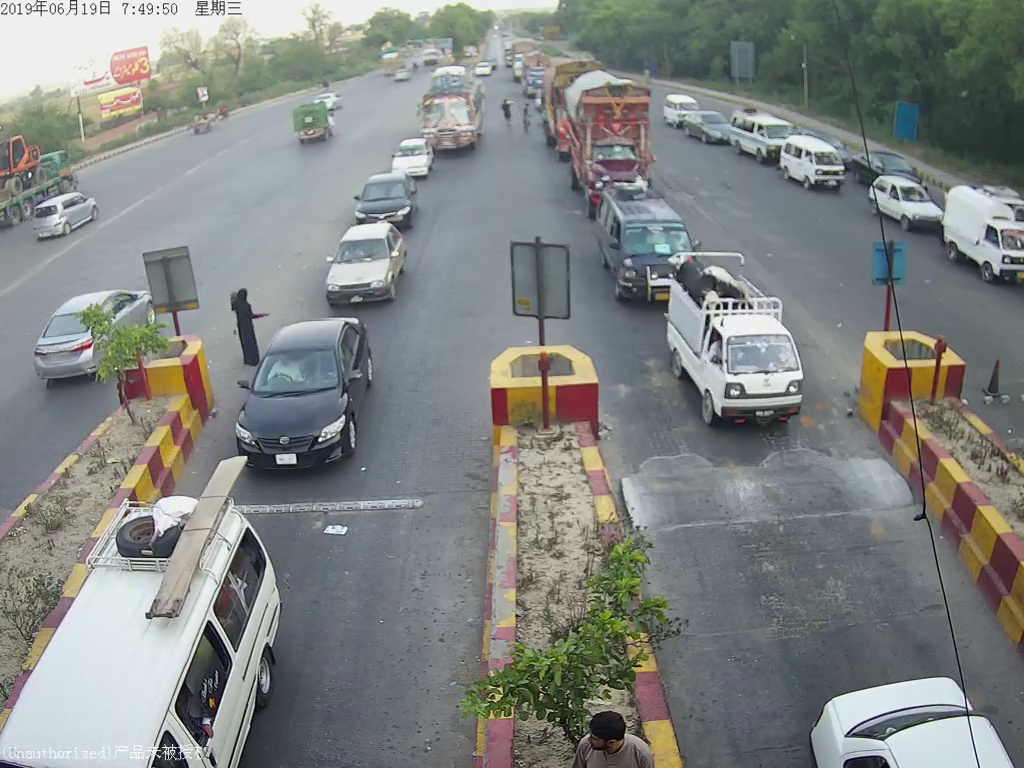Cat-1: (665, 246, 809, 434), (235, 313, 373, 466), (315, 225, 411, 309), (347, 170, 414, 230), (388, 138, 428, 176)
Cat-2: (594, 182, 686, 302)
Cat-3: (414, 58, 487, 151)
Cat-4: (569, 73, 653, 206)
